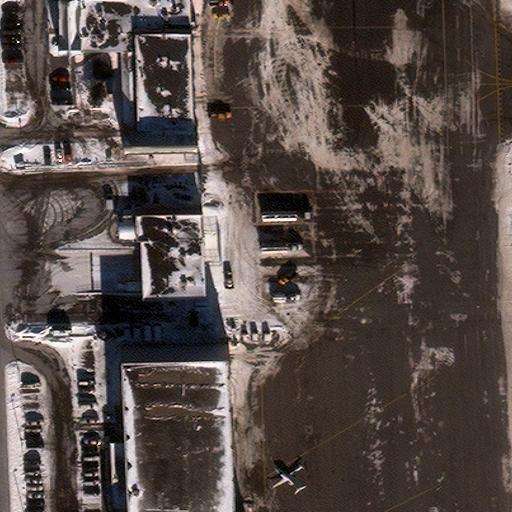Small Civil Transport: (271, 467, 300, 491)
